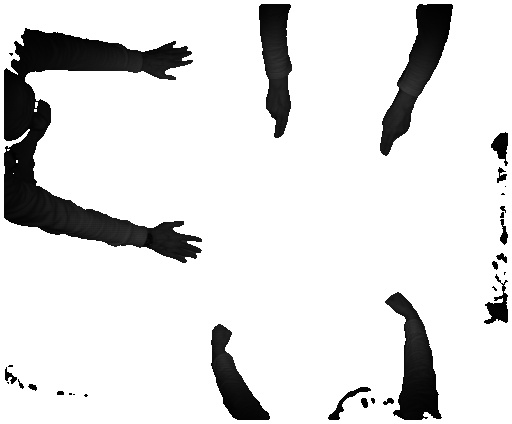fist: (384, 288, 415, 318), (208, 320, 231, 351)
hand: (152, 216, 207, 263), (147, 40, 199, 79), (376, 106, 413, 159), (264, 91, 295, 143)
